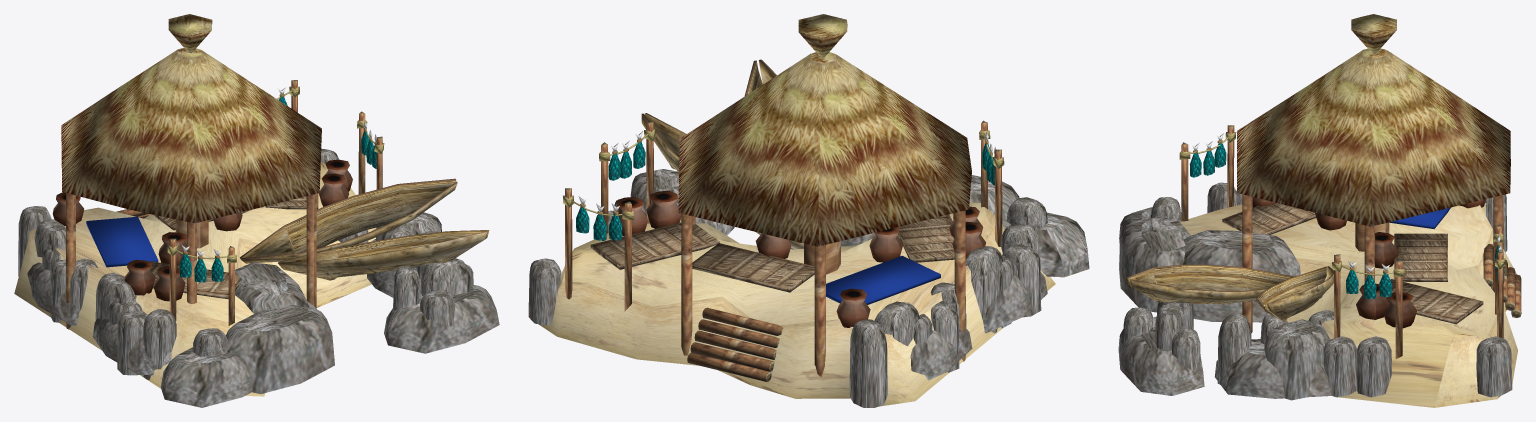
The model's file is dock.dae.
3 views of the same model, side by side, from view 1: azimuth 30°, elevation 25°; view 2: azimuth 150°, elevation 25°; view 3: azimuth 270°, elevation 25° (orthographic). The views are drawn at different scales.
Visible parts, largest first — view 1: dock; view 2: dock; view 3: dock.
Part boxes in pixels (x1=…): dock: x1=14, y1=14, x2=499, y2=407; dock: x1=528, y1=14, x2=1089, y2=407; dock: x1=1118, y1=14, x2=1521, y2=407.
Bounding box in the file's own units: 16.45 × 16.23 × 12.34.
